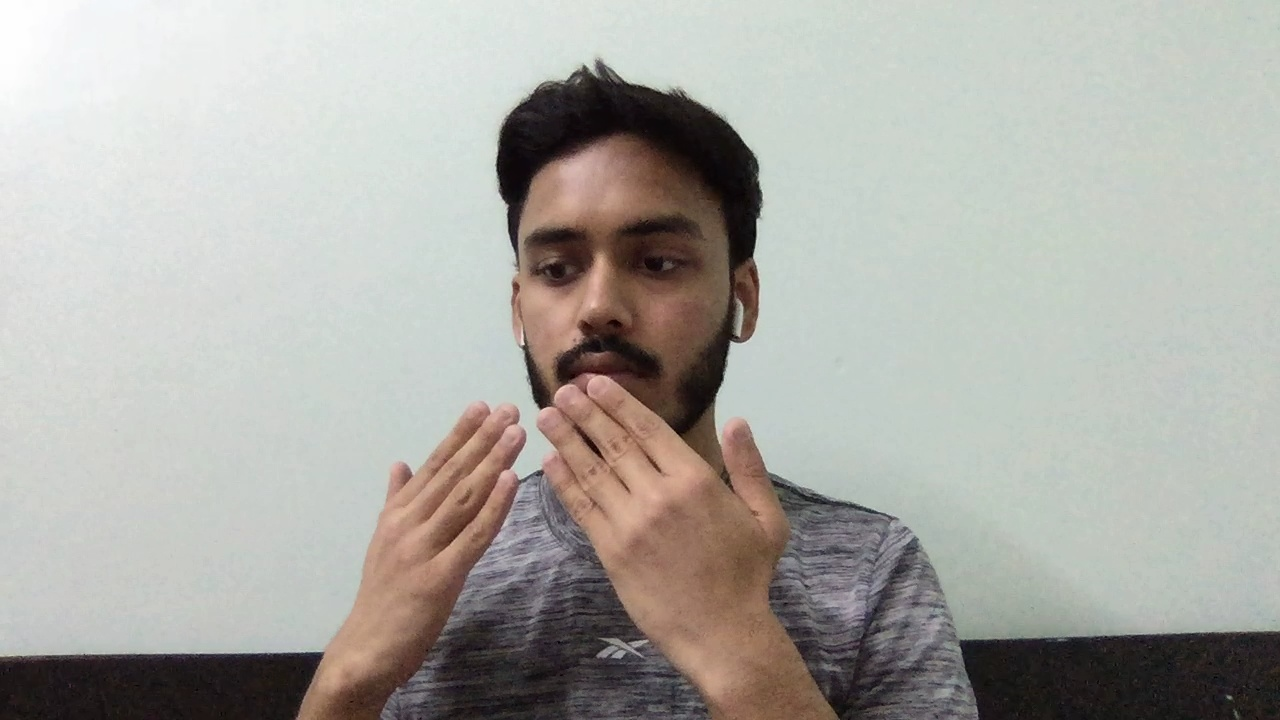Thank You: (319, 361, 821, 673)
